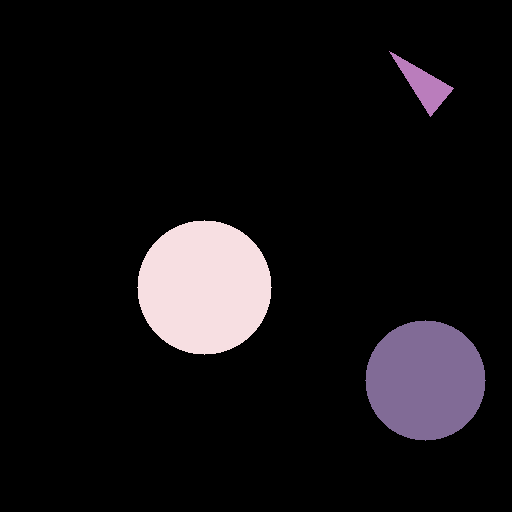circle: (137, 220, 271, 354), (365, 320, 485, 440)
triangle: (389, 51, 453, 116)
